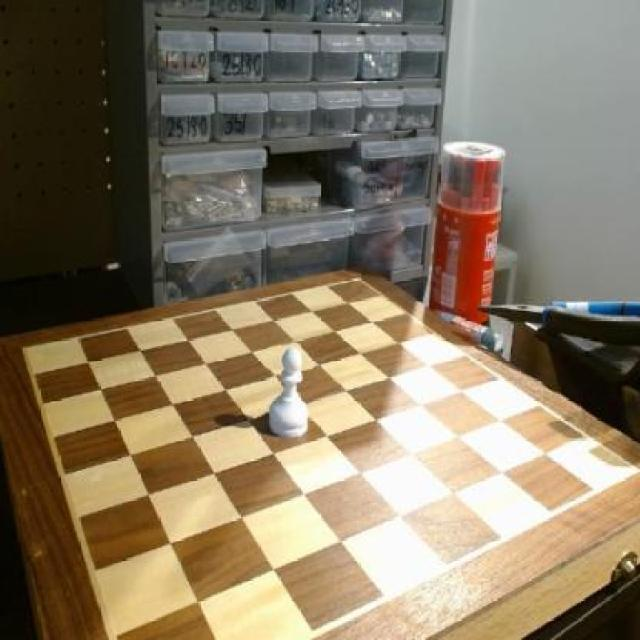white-knight: (265, 343, 313, 443)
